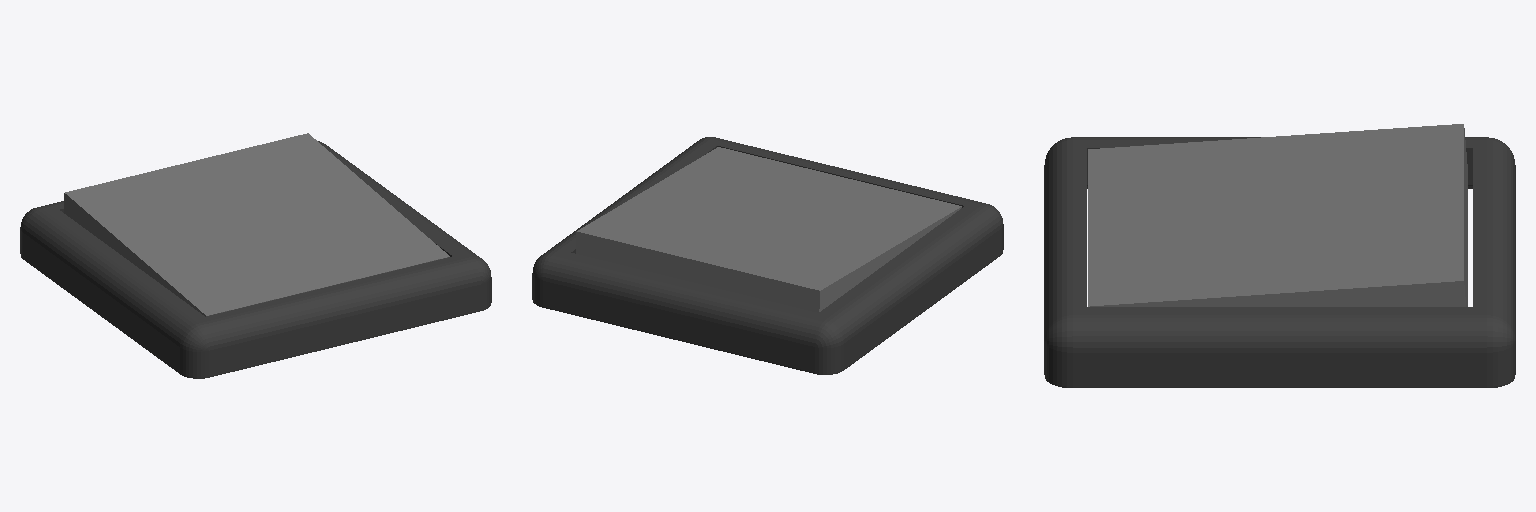
robot.urdf — on_switch.urdf:
<?xml version="1.0" ?>

<robot name="on_switch.urdf">
  <material name="Dark Grey">
    <color rgba=".3 .3 .3 1"/>
  </material>
  <material name="Light Grey">
    <color rgba=".5 .5 .5 1"/>
  </material>
  <link name="case_link">
    <!-- <contact>
      <lateral_friction value="1.0"/>
    </contact> -->
    <visual>
      <origin xyz="0 0 0" rpy = "0 0 0"/>
      <geometry>
			  <mesh filename="case.dae"/>
      </geometry>
      <material name="Dark Grey"/>
    </visual>
    <collision>
      <origin xyz="0 0 0" rpy = "0 0 0"/>
      <geometry>
			  <mesh filename="case.dae"/>
      </geometry>
    </collision>
    
  </link>
  <link name="on_button_link">
    <visual>
      <origin xyz="0 0 0" rpy="0 0 0"/>
      <geometry>
			  <mesh filename="on_button.dae"/>
      </geometry>
      <material name="Light Grey"/>
    </visual>
    <collision>
      <origin xyz="0 0 0" rpy="0 0 0"/>
      <geometry>
			  <mesh filename="on_button.dae"/>
      </geometry>
    </collision>
  </link>
  <joint name="fixed" type="fixed">
      <parent link="case_link"/>
      <child link="on_button_link"/>
  </joint>
</robot>

--- Facts derived from the render (not from the file) ---
3 views of the same robot in one strip: view 1: azimuth 30°, elevation 25°; view 2: azimuth 150°, elevation 25°; view 3: azimuth 270°, elevation 25° (orthographic).
Robot: on_switch.urdf — 2 links, 1 joints (1 fixed); root link case_link; default pose: all joints at 0.
Visible links, largest first — view 1: on_button_link, case_link; view 2: on_button_link, case_link; view 3: on_button_link, case_link.
Link boxes in pixels (x1,y1,x2,y2): on_button_link: (64,133,449,316); case_link: (20,141,491,378); on_button_link: (576,147,961,312); case_link: (532,137,1003,374); on_button_link: (1088,124,1467,306); case_link: (1044,137,1515,387).
Bounding box of the posed robot: 200 × 200 × 40.58 m (x, y, z).
2 mesh visuals loaded from 2 distinct referenced files (2 Collada DAE).